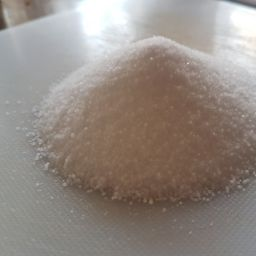Salt: (6, 50, 256, 223), (54, 28, 256, 206), (63, 35, 256, 186)
